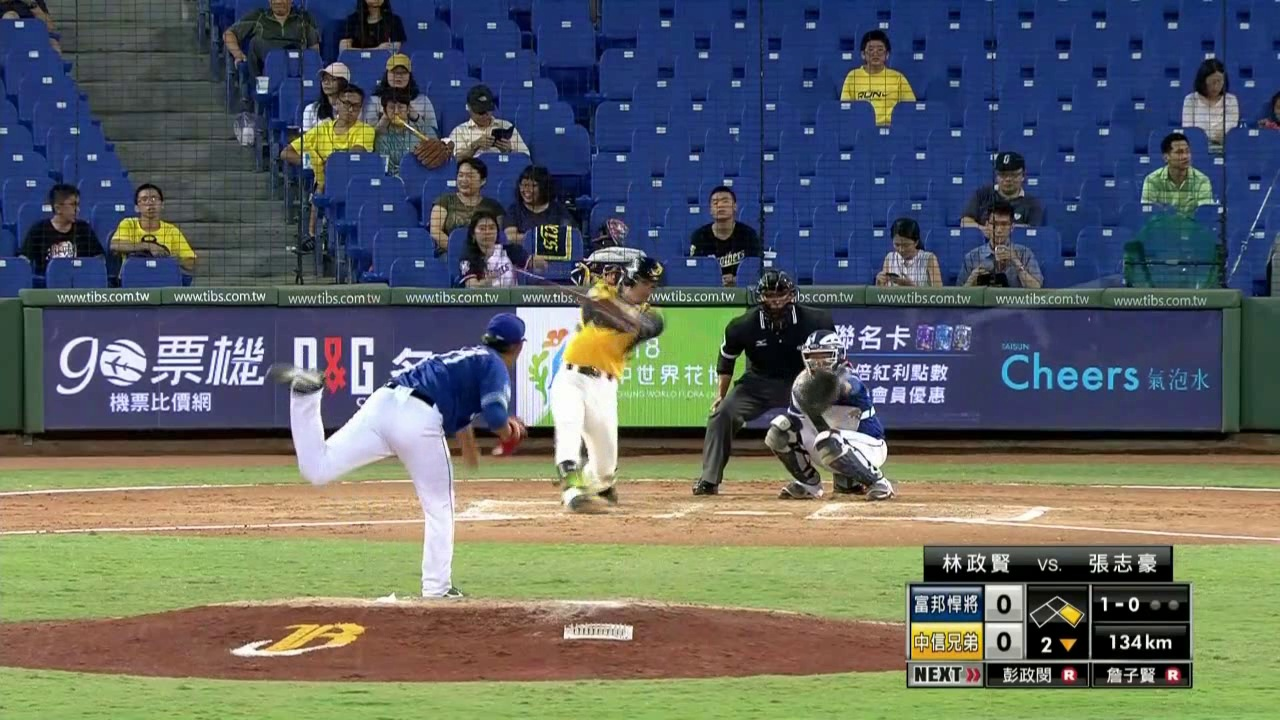base: (1029, 592, 1086, 628)
bat: (500, 261, 621, 313)
out: (1148, 588, 1186, 617)
score1: (986, 587, 1019, 620)
score2: (988, 624, 1019, 656)
session: (1029, 629, 1087, 659)
speed: (1093, 629, 1187, 657)
strikeball: (1094, 587, 1146, 621)
